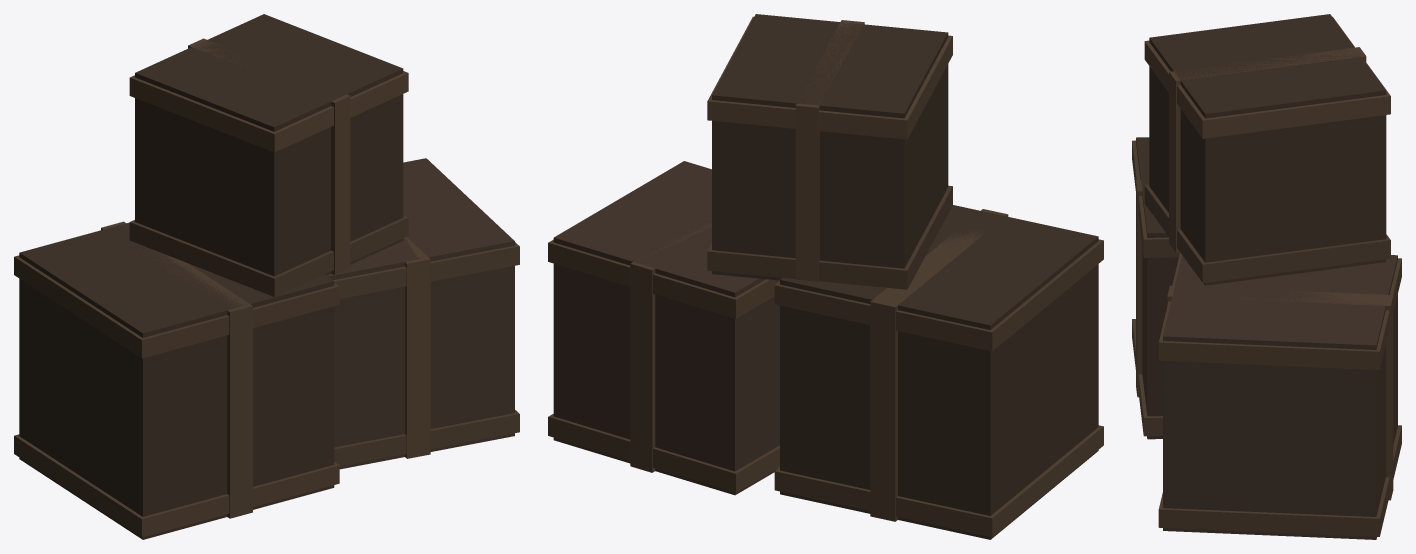
File: crate_stack.glb
The picture shows the model from 3 angles, left to right: view 1: azimuth 30°, elevation 25°; view 2: azimuth 150°, elevation 25°; view 3: azimuth 270°, elevation 25°; orthographic projection. The views are drawn at different scales.
Visible parts, largest first — view 1: crate_stack; view 2: crate_stack; view 3: crate_stack.
Boxes of the visible parts, <box> form: crate_stack: <box>14,14,519,539</box>; crate_stack: <box>548,14,1103,539</box>; crate_stack: <box>1132,14,1401,539</box>.
Size of the model in its own units: 1.92 by 1.63 by 1.07.
